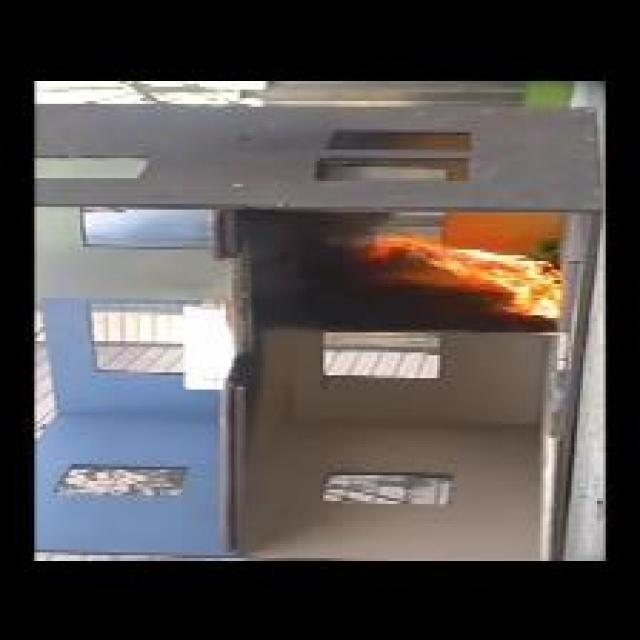Fire: (363, 232, 566, 318)
